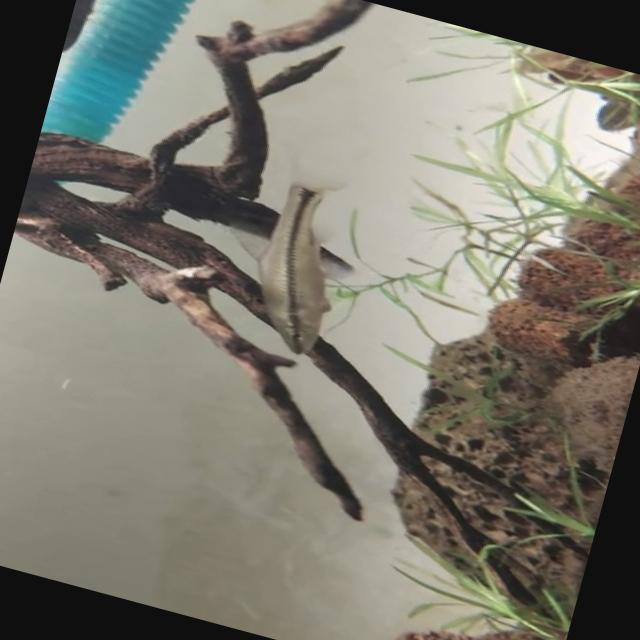Cakil Baligi: (197, 146, 367, 364)
